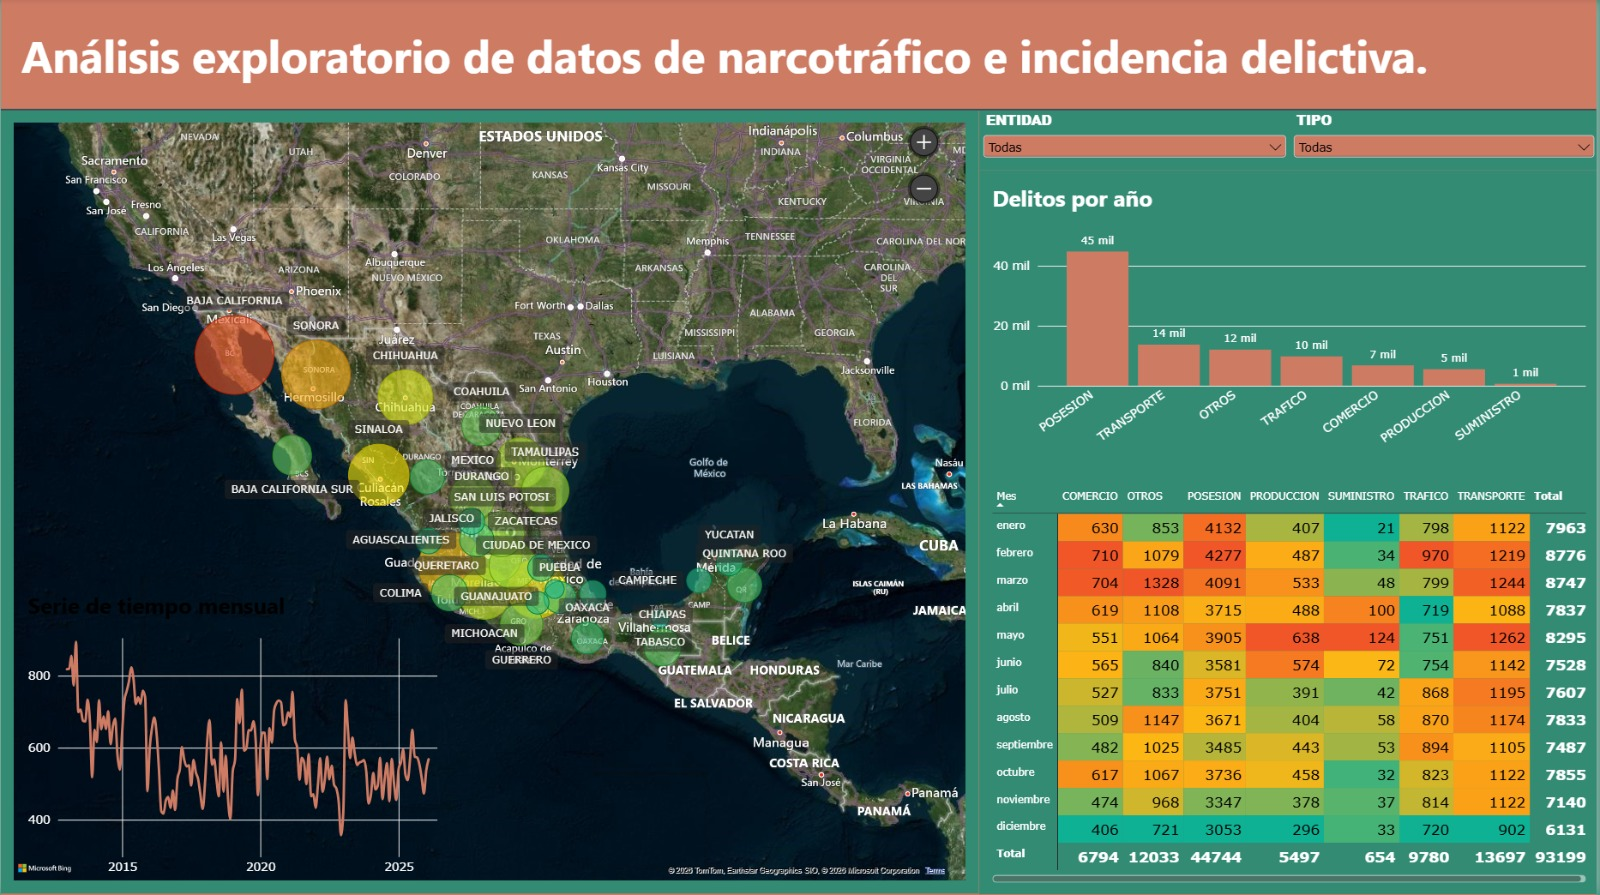

The dashboard page shown, as its layout file describes it:
{"tool":"powerbi","page":{"name":"2013-2025","canvas":[1920,1080],"ordinal":0},"visuals":[{"type":"map","fields":{"Category":["Fuero_federal_2012-2026_feb2026.ENTIDAD"],"Size":["Sum(Fuero_federal_2012-2026_feb2026.CONTEO)"]},"box":[0,137.2,1176.7,941.9],"z":4000},{"type":"lineChart","title":"Serie de tiempo mensual","fields":{"Category":["Fuero_federal_2012-2026_feb2026.FECHA.Variación.Jerarquía de fechas.Año","Fuero_federal_2012-2026_feb2026.FECHA.Variación.Jerarquía de fechas.Mes"],"Y":["Sum(Fuero_federal_2012-2026_feb2026.CONTEO)"]},"box":[16.3,697.7,532.6,376.7],"z":4062},{"type":"clusteredColumnChart","title":"Delitos por año","fields":{"Category":["Fuero_federal_2012-2026_feb2026.TIPO"],"Y":["Sum(Fuero_federal_2012-2026_feb2026.CONTEO)"]},"box":[1176.7,209.3,746.5,365.1],"z":4125},{"type":"shape","box":[0,82.4,1920,105.1],"z":4250},{"type":"textbox","box":[25.6,32.6,1751.2,93],"z":4500},{"type":"slicer","fields":{"Values":["Fuero_federal_2012-2026_feb2026.TIPO"]},"box":[1551.2,137.2,372.1,72.1],"z":4502},{"type":"pivotTable","fields":{"Columns":["Fuero_federal_2012-2026_feb2026.TIPO"],"Rows":["Fuero_federal_2012-2026_feb2026.FECHA.Variación.Jerarquía de fechas.Mes"],"Values":["Sum(Fuero_federal_2012-2026_feb2026.CONTEO)"]},"box":[1176.7,572.1,746.5,507],"z":4503},{"type":"slicer","fields":{"Values":["Fuero_federal_2012-2026_feb2026.ENTIDAD"]},"box":[1176.7,137.2,374.4,72.1],"z":4504}]}

Visuals, with their boxes in screenshot pixels (x1, y1, x2, y2), scaled from the page's 1920x1080 canvas onto the 1600x895 screenshot:
map - Fuero_federal_2012-2026_feb2026.ENTIDAD x Sum(Fuero_federal_2012-2026_feb2026.CONTEO): (0, 114, 981, 894)
"Serie de tiempo mensual" lineChart: (14, 578, 457, 890)
"Delitos por año" clusteredColumnChart: (981, 173, 1599, 476)
shape: (0, 68, 1599, 155)
textbox: (21, 27, 1481, 104)
slicer - Fuero_federal_2012-2026_feb2026.TIPO: (1293, 114, 1599, 173)
pivotTable - Fuero_federal_2012-2026_feb2026.TIPO x Fuero_federal_2012-2026_feb2026.FECHA.Variación.Jerarquía de fechas.Mes: (981, 474, 1599, 894)
slicer - Fuero_federal_2012-2026_feb2026.ENTIDAD: (981, 114, 1293, 173)
